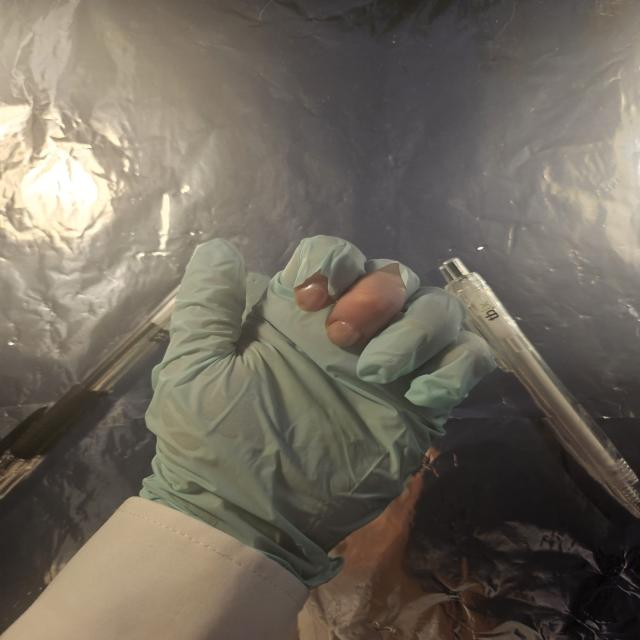gloves_damaged: (138, 233, 502, 588)
